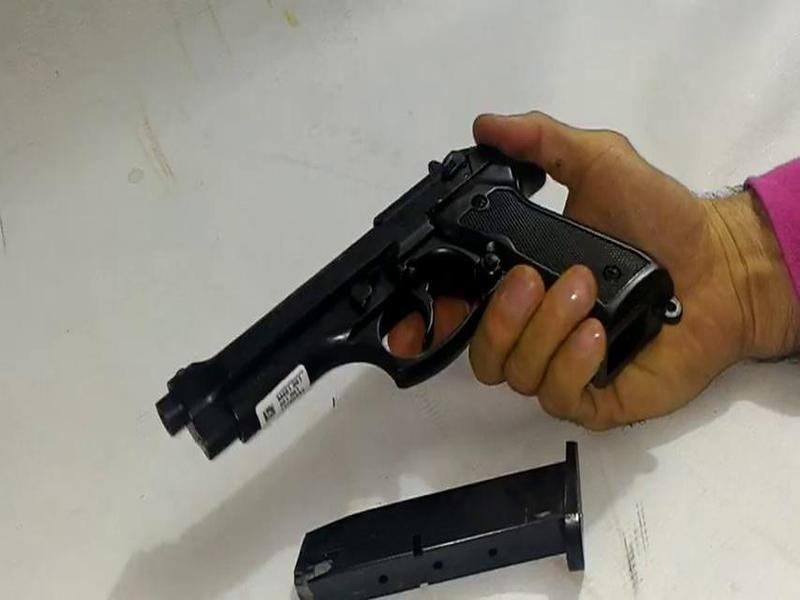Pistola: (132, 124, 697, 484)
